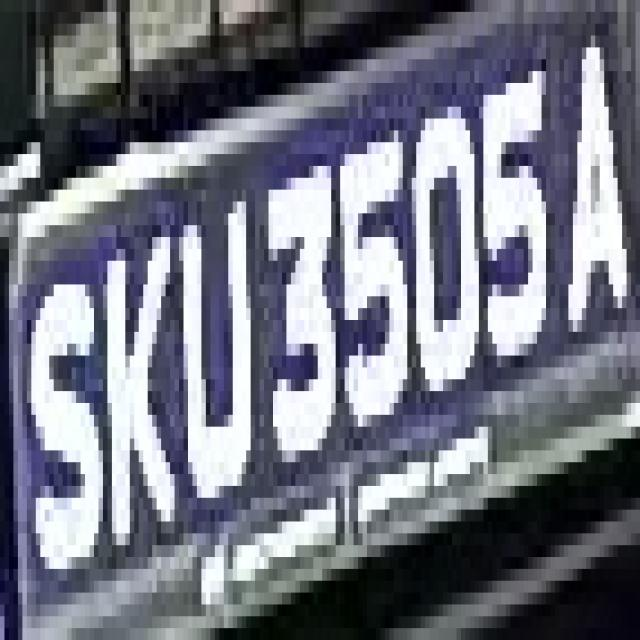0: (398, 95, 488, 450)
3: (255, 154, 340, 486)
5: (470, 48, 559, 380), (322, 107, 408, 450)
A: (555, 36, 631, 391)
K: (94, 190, 179, 533)
S: (27, 225, 121, 593)
U: (175, 142, 264, 569)
